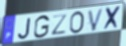G: (33, 15, 51, 40)
J: (17, 17, 32, 40)
O: (69, 11, 85, 35)
V: (87, 7, 105, 32)
X: (103, 5, 122, 31)
Z: (52, 13, 69, 37)
